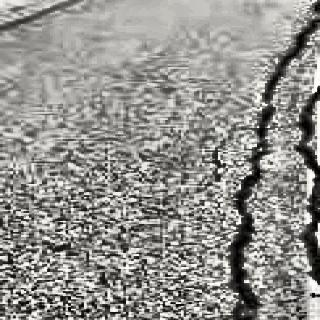crack: (227, 102, 275, 320), (292, 84, 320, 299), (260, 18, 320, 104)
